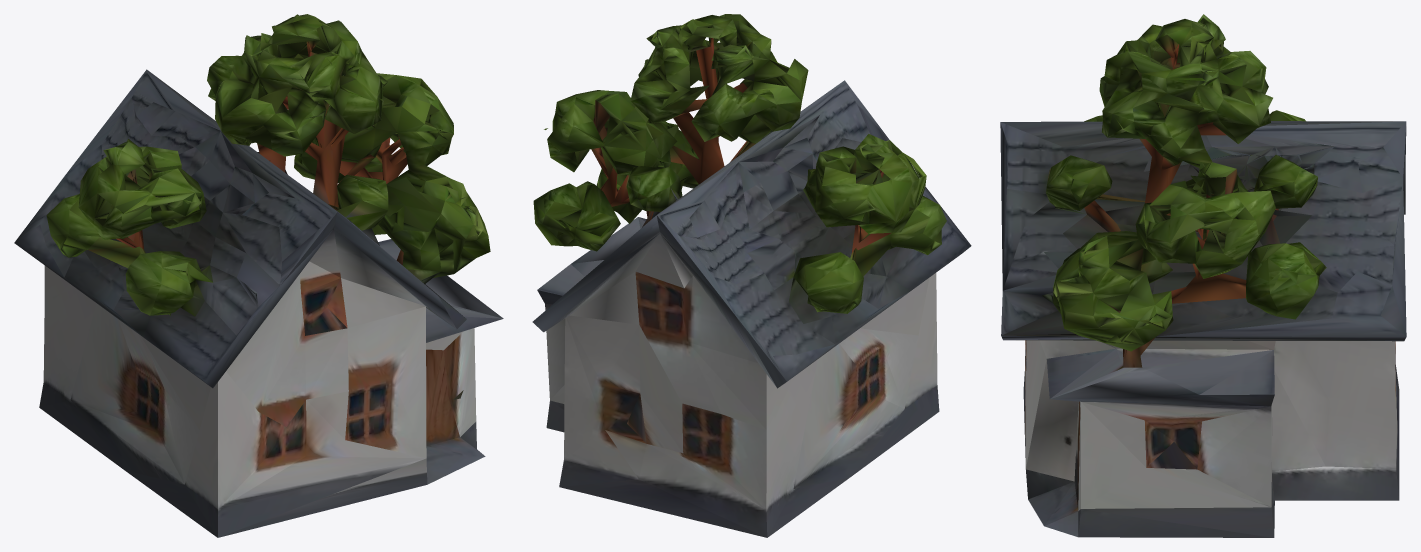
The model's file is cottage.glb.
3 renders of one model, left to right at view 1: azimuth 30°, elevation 25°; view 2: azimuth 150°, elevation 25°; view 3: azimuth 270°, elevation 25°, orthographic. The views are drawn at different scales.
Parts seen in each view (by area): view 1: tripo_node_135ae793; view 2: tripo_node_135ae793; view 3: tripo_node_135ae793.
Part boxes in pixels (x1,y1,x2,y2): tripo_node_135ae793: (14, 14, 503, 537); tripo_node_135ae793: (532, 14, 971, 537); tripo_node_135ae793: (1000, 14, 1406, 537).
Size of the model in its own units: 0.8775 by 1 by 0.8293.
Materials: 1 (1 with a texture image).
